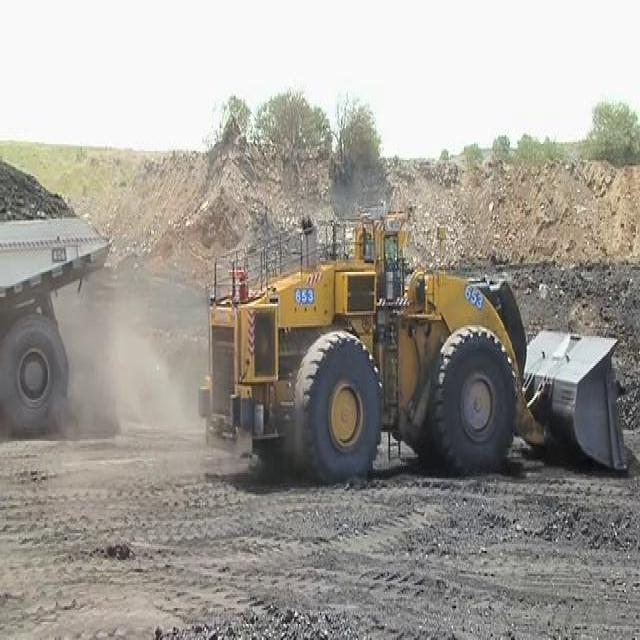buldozerpayloadergrader: (195, 194, 626, 505)
dump_truck: (0, 162, 113, 432)
